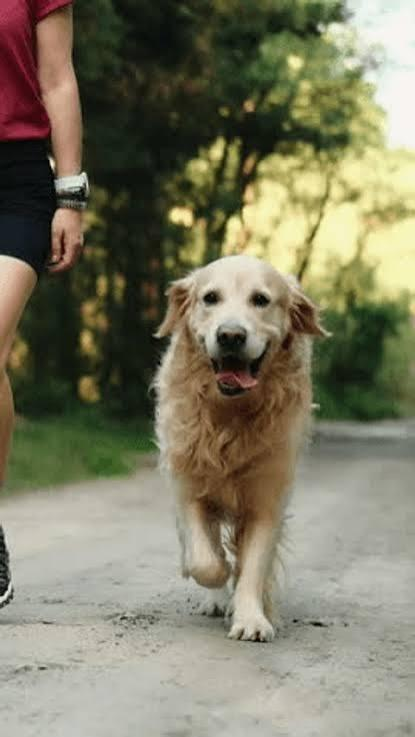adult_dog: (150, 251, 331, 646)
non-dog: (0, 0, 89, 607)
